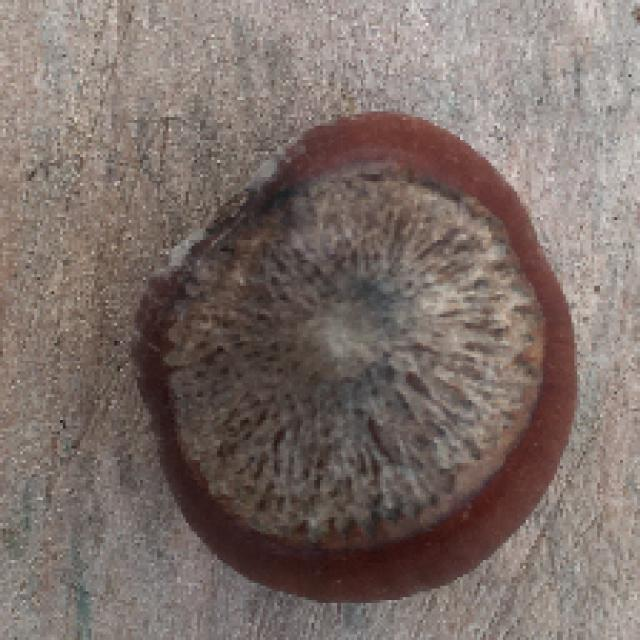damagedHazelnut: (116, 98, 586, 608)
